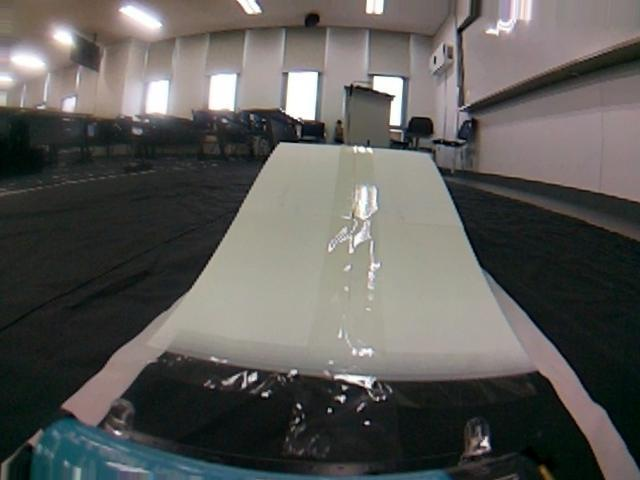hill_up: (190, 147, 537, 345)
